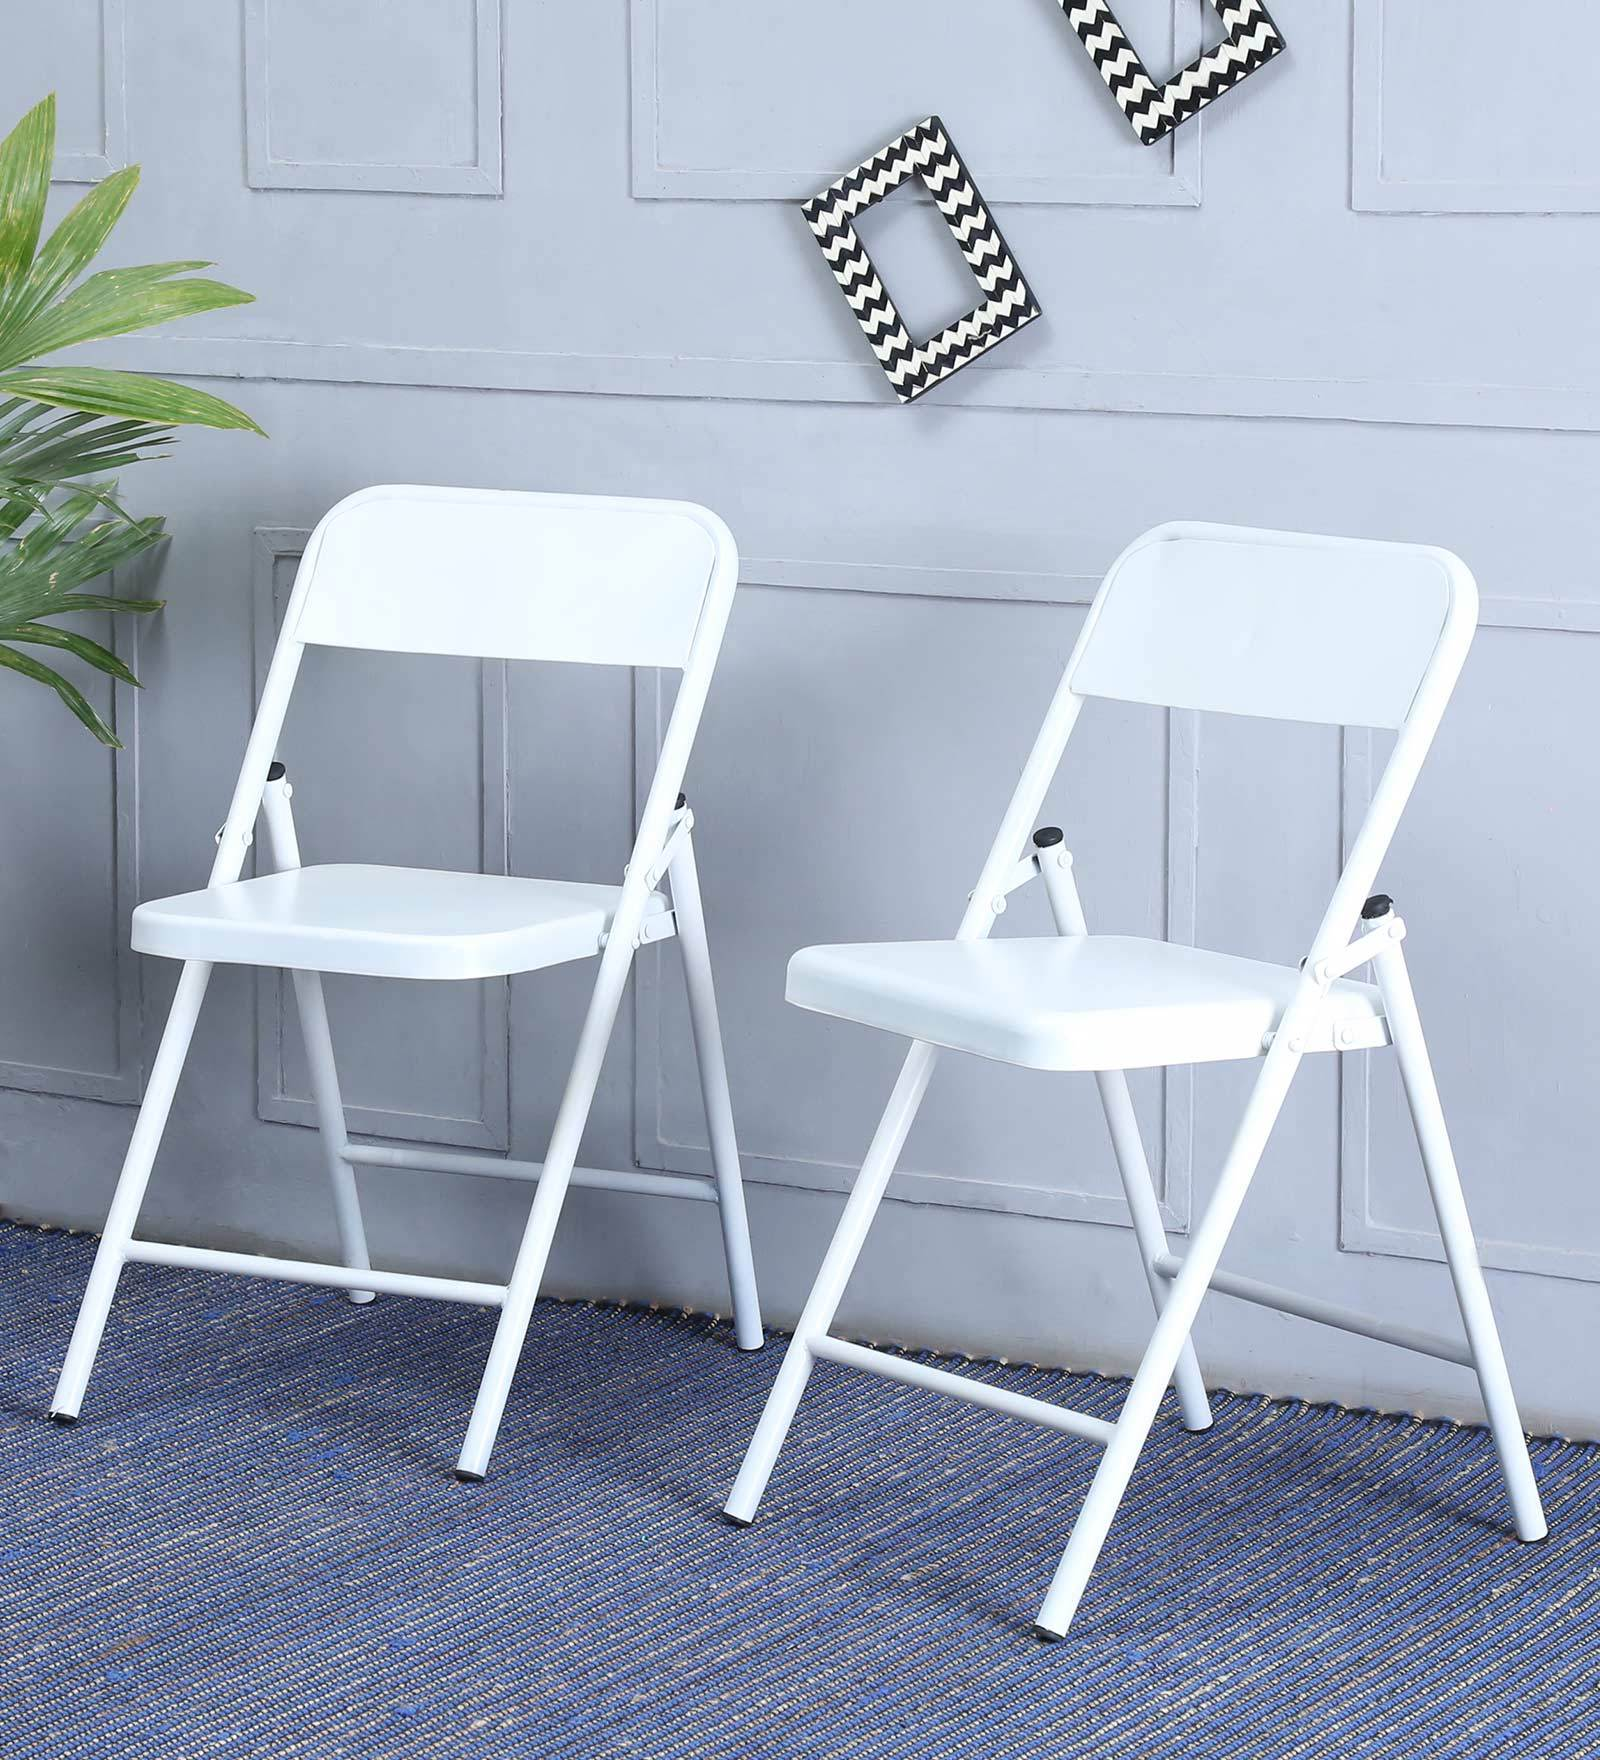Kell Folding Chair (Set of 2) in White Color by Bohemiana: (51, 451, 1577, 1702)
